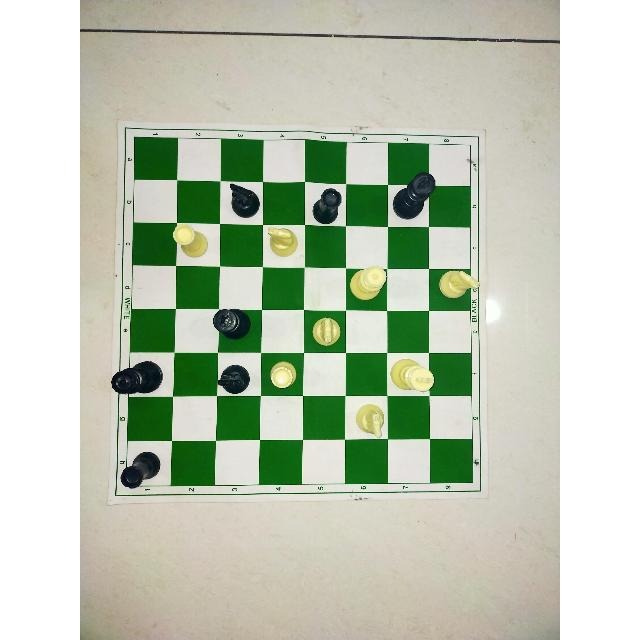black-king: (388, 161, 443, 226), (391, 165, 441, 224), (208, 305, 269, 347), (209, 307, 269, 348)
black-knight: (223, 170, 263, 228), (226, 172, 262, 229), (210, 357, 256, 401), (218, 357, 254, 401)
black-queen: (106, 349, 172, 399), (108, 351, 172, 399)
black-rook: (306, 175, 346, 227), (117, 443, 161, 489), (117, 445, 162, 489), (308, 183, 346, 225)
white-king: (384, 346, 437, 400), (386, 350, 438, 399)
white-knight: (258, 219, 305, 267), (302, 309, 346, 355), (435, 265, 480, 309), (346, 401, 390, 445), (261, 221, 302, 265), (435, 267, 480, 307), (304, 312, 345, 352), (348, 401, 386, 443)
white-queen: (344, 255, 388, 307), (344, 258, 390, 305)
white-rook: (260, 351, 304, 399), (170, 214, 214, 261), (169, 216, 213, 261), (262, 355, 304, 397)
